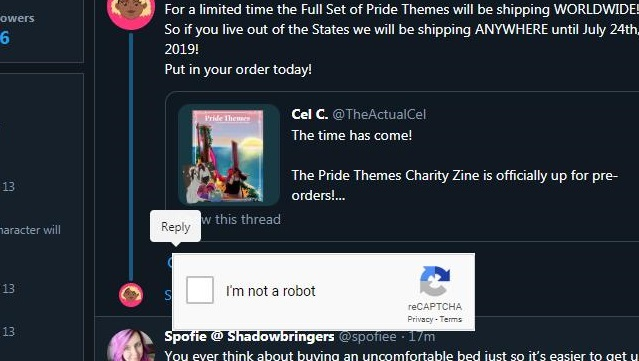captcha: (187, 276, 321, 304)
